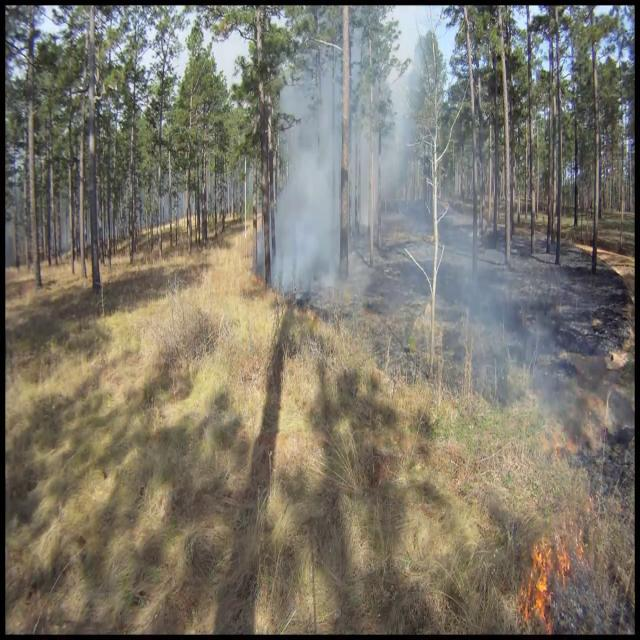Fire: (520, 532, 570, 626)
Smoke: (268, 19, 457, 323)
